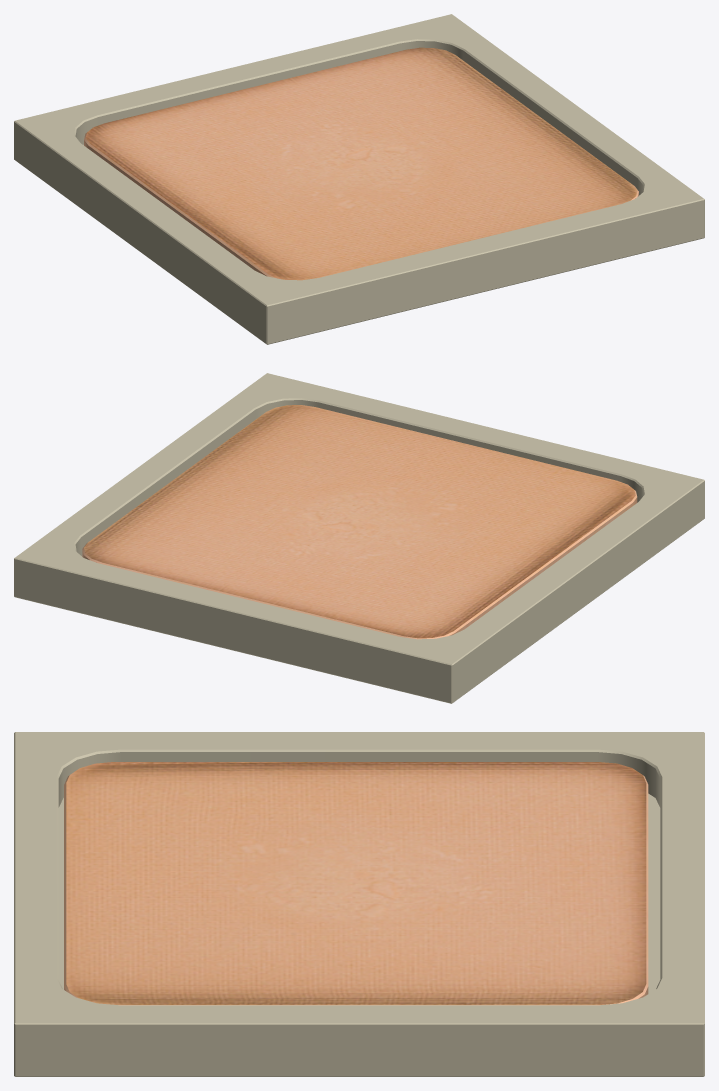
The model's file is Beauty_Product_05.fbx.
The picture shows the model from 3 angles, top to bottom: view 1: azimuth 30°, elevation 25°; view 2: azimuth 150°, elevation 25°; view 3: azimuth 270°, elevation 25°; orthographic projection. The views are drawn at different scales.
Parts seen in each view (by area): view 1: Beauty_Product_05; view 2: Beauty_Product_05; view 3: Beauty_Product_05.
Part boxes in pixels (<box>): Beauty_Product_05: <box>14,14,704,344</box>; Beauty_Product_05: <box>14,373,704,703</box>; Beauty_Product_05: <box>14,732,704,1076</box>.
Bounding box in the file's own units: 121 × 10.48 × 121.
